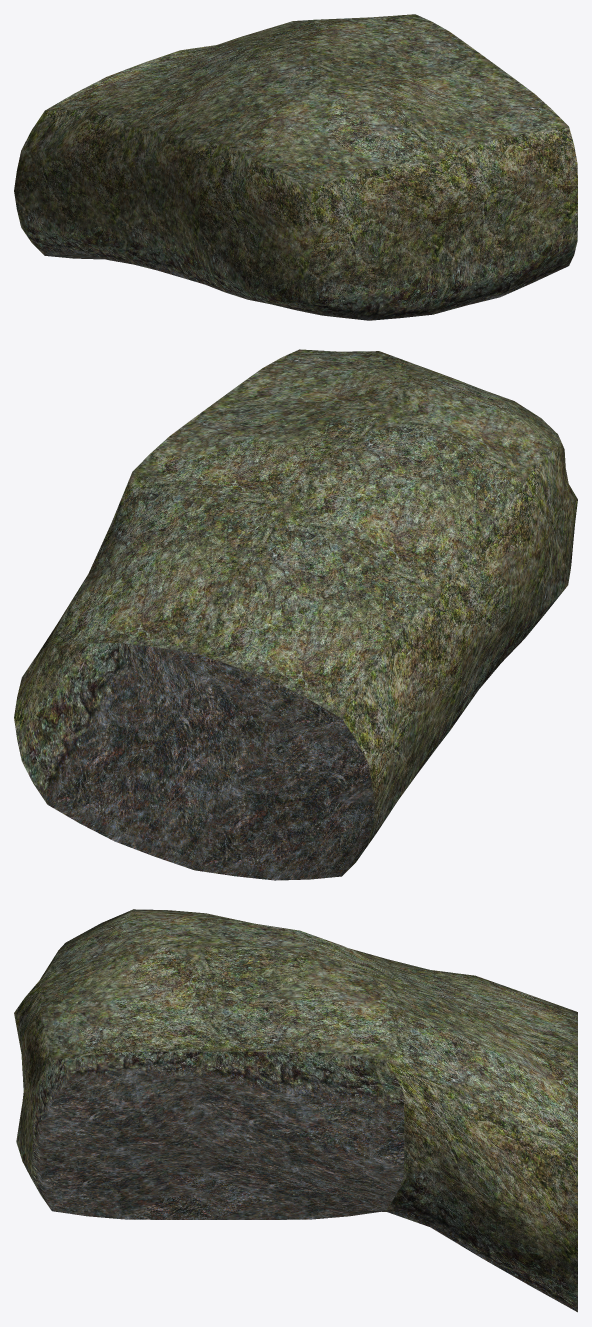
File: thm_all_cave_s03_damprock_r21_r21.fbx
The picture shows the model from 3 angles, top to bottom: view 1: azimuth 30°, elevation 25°; view 2: azimuth 150°, elevation 25°; view 3: azimuth 270°, elevation 25°; orthographic projection. The views are drawn at different scales.
Parts seen in each view (by area): view 1: mesh_node; view 2: mesh_node; view 3: mesh_node.
Boxes of the visible parts, bbox=[...] form: mesh_node: bbox=[14, 14, 577, 320]; mesh_node: bbox=[14, 349, 577, 880]; mesh_node: bbox=[14, 909, 577, 1312].
Bounding box in the file's own units: 17.9 × 15.47 × 24.28.
